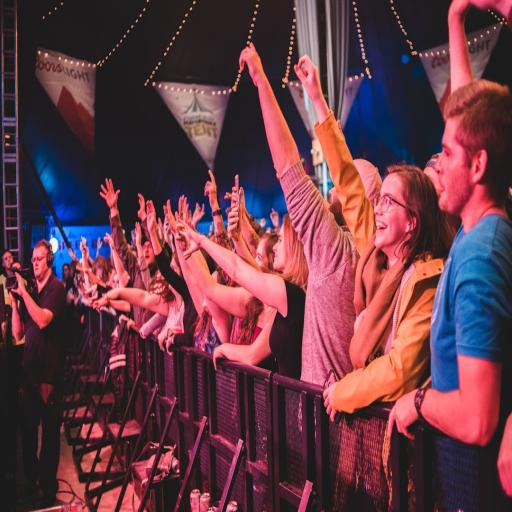face: (436, 118, 472, 216), (375, 174, 412, 265), (32, 246, 49, 281), (273, 227, 285, 272)
